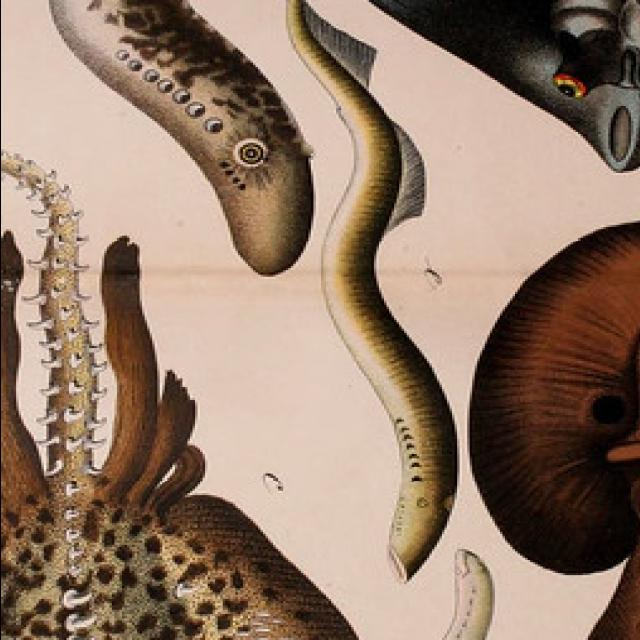snake: (0, 147, 368, 640), (277, 0, 461, 582), (0, 0, 320, 277), (466, 216, 640, 640), (277, 0, 640, 173), (227, 547, 499, 640)
